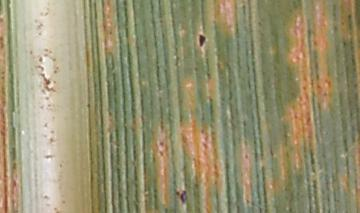tarspot: (198, 33, 207, 48), (181, 189, 188, 204), (174, 189, 181, 197), (159, 140, 165, 147), (158, 150, 164, 157)
